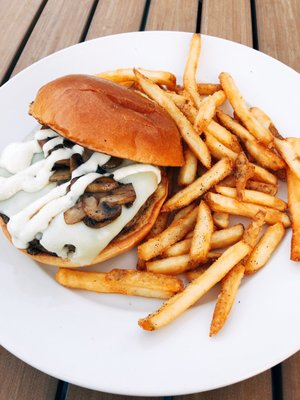soup: (0, 68, 187, 269)
